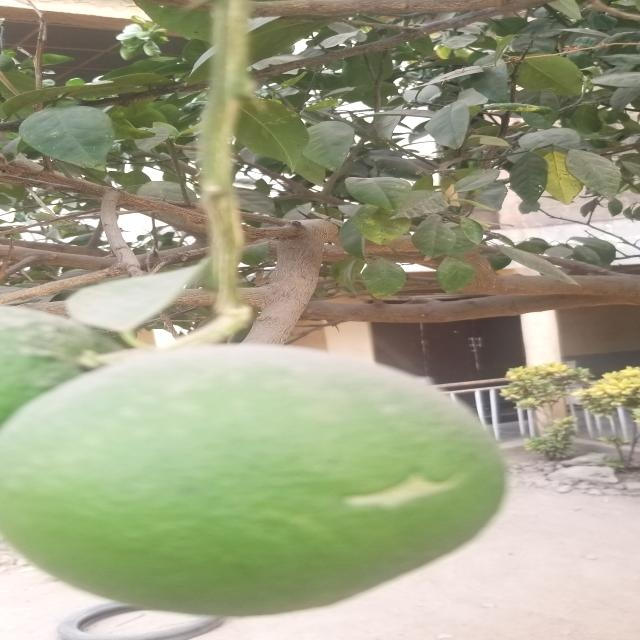agrume: (10, 346, 506, 616)
